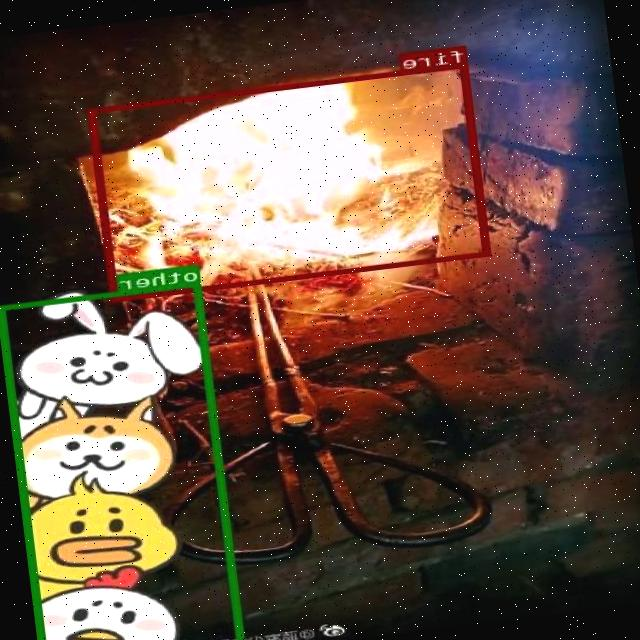fire: (88, 62, 493, 300)
